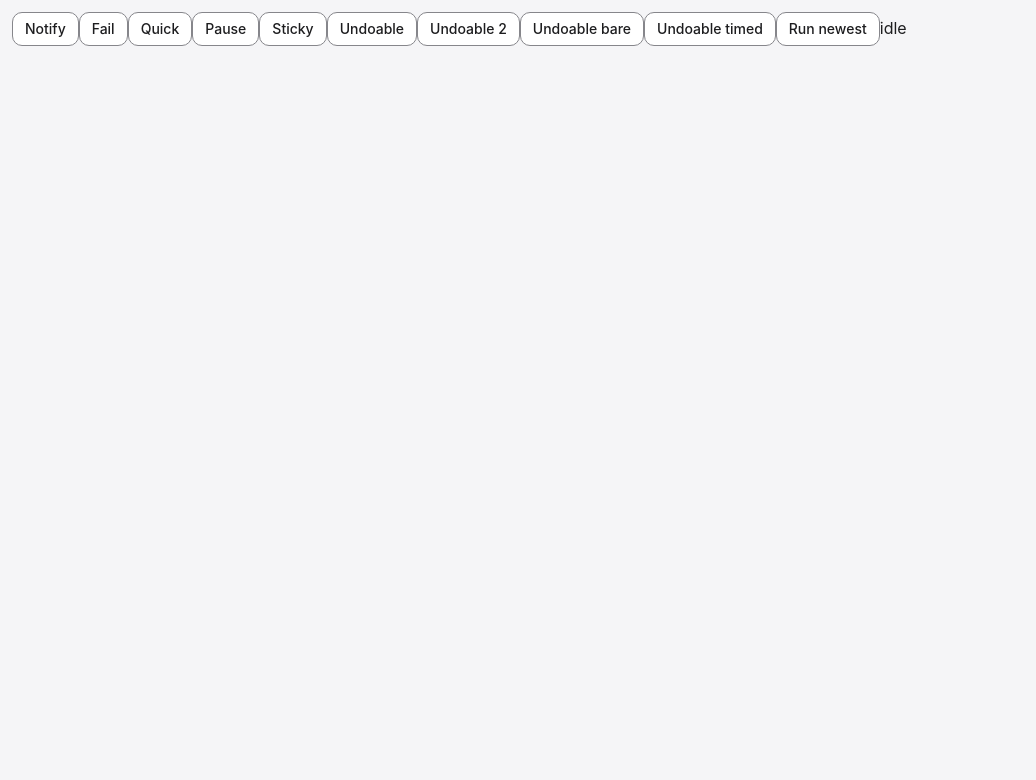
Test: Toast › routes a status toast into the polite region and dismisses it manually
Click the button "Notify".
click(45, 29)  # box [12,12,79,46]
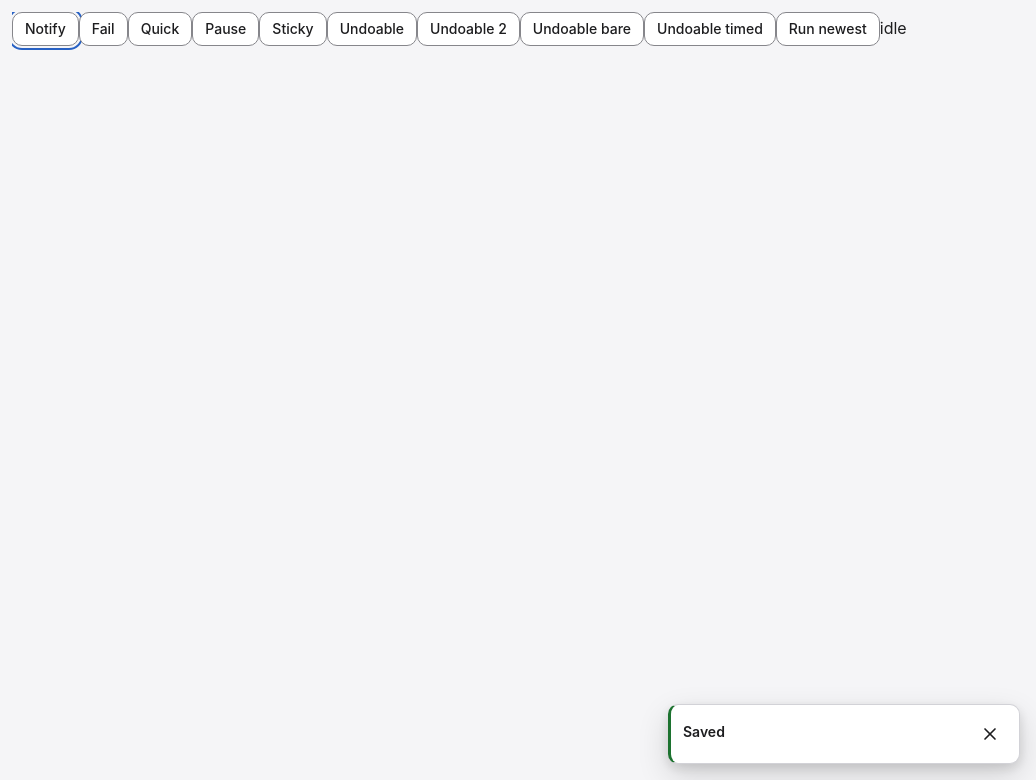
Expected: the text "Saved" is shown, [683,723,725,740]
Click the button named "Dismiss".
click(990, 734)  # box [973,717,1007,751]
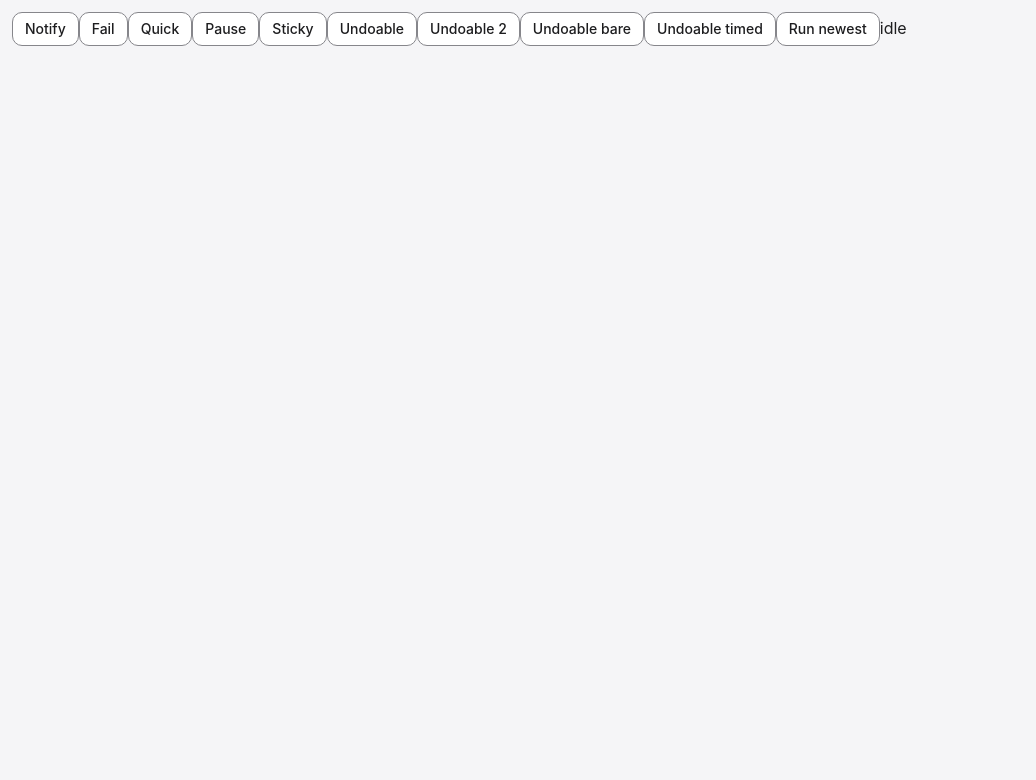
Expected: the text "Saved" is gone
